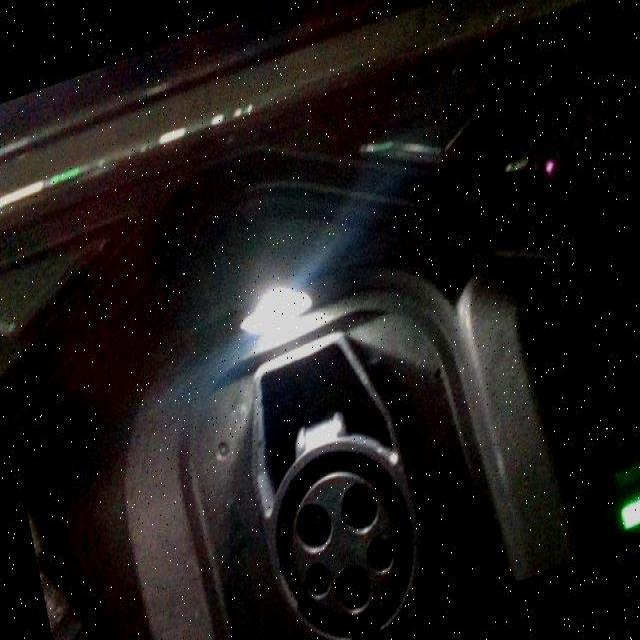Type 1: (274, 461, 406, 624)
